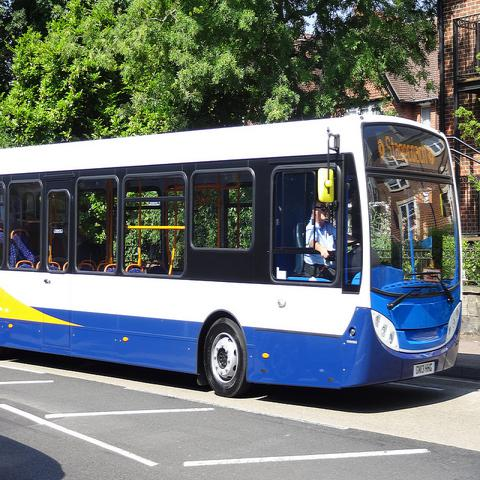bus: (1, 113, 464, 400)
